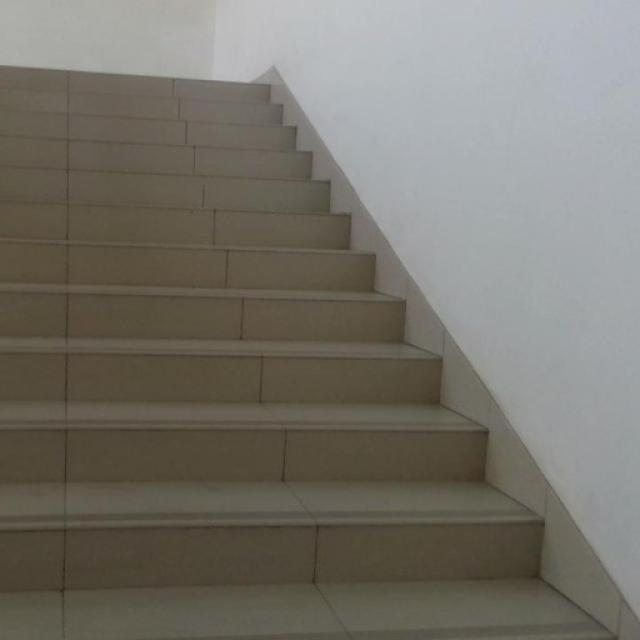stair: (0, 68, 609, 639)
